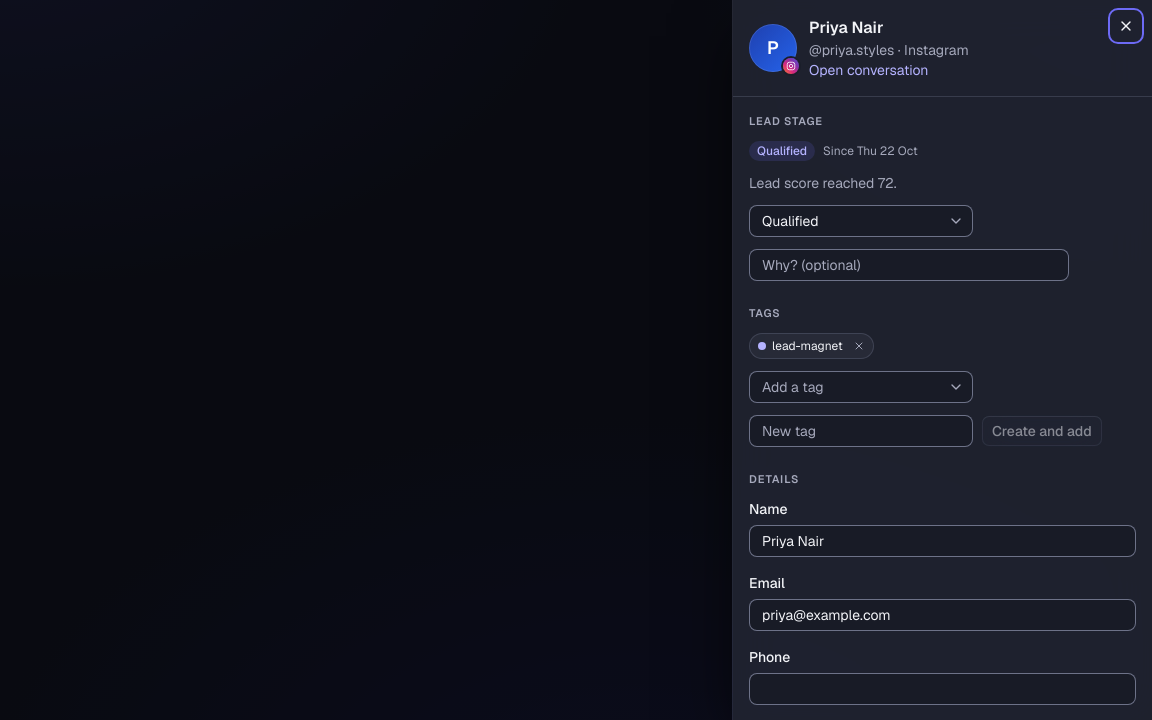
Test: ContactDrawer (GR-17) › puts the API's message beside the value it refuses
Replace the text in the field labelled "Email" with "nope" at (942, 615), box [749,599,1136,631]
(page scrolled)
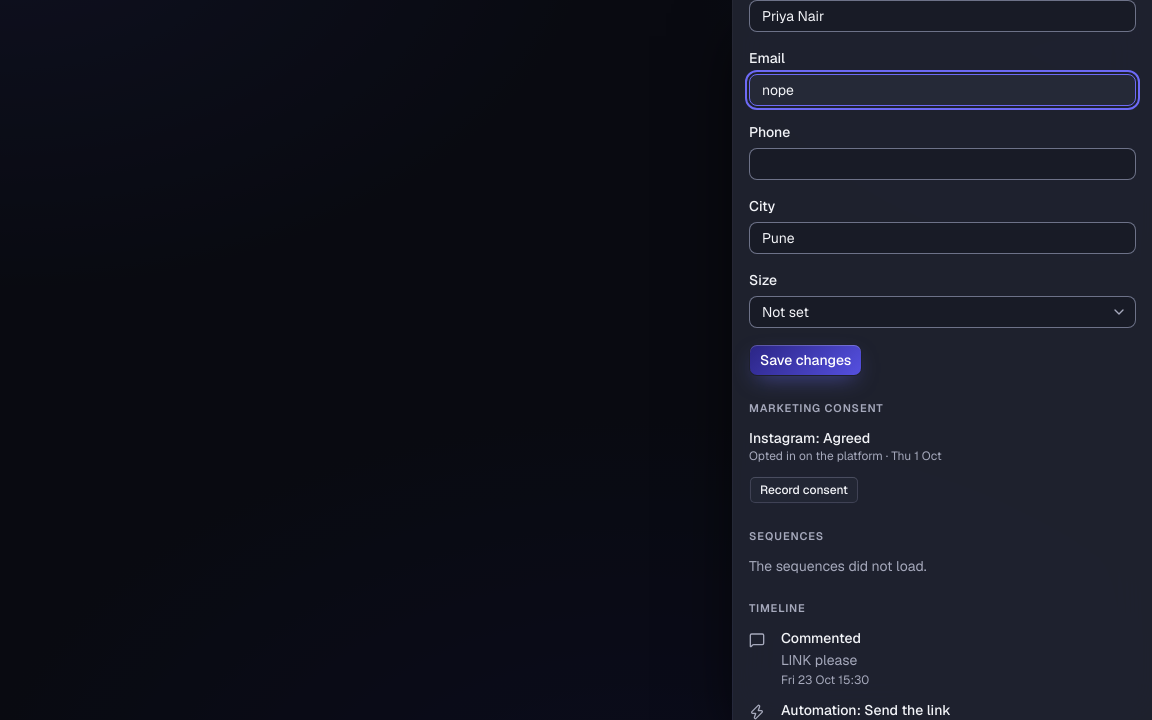
Click the button "Save changes" at (806, 360), box [749,344,862,376]
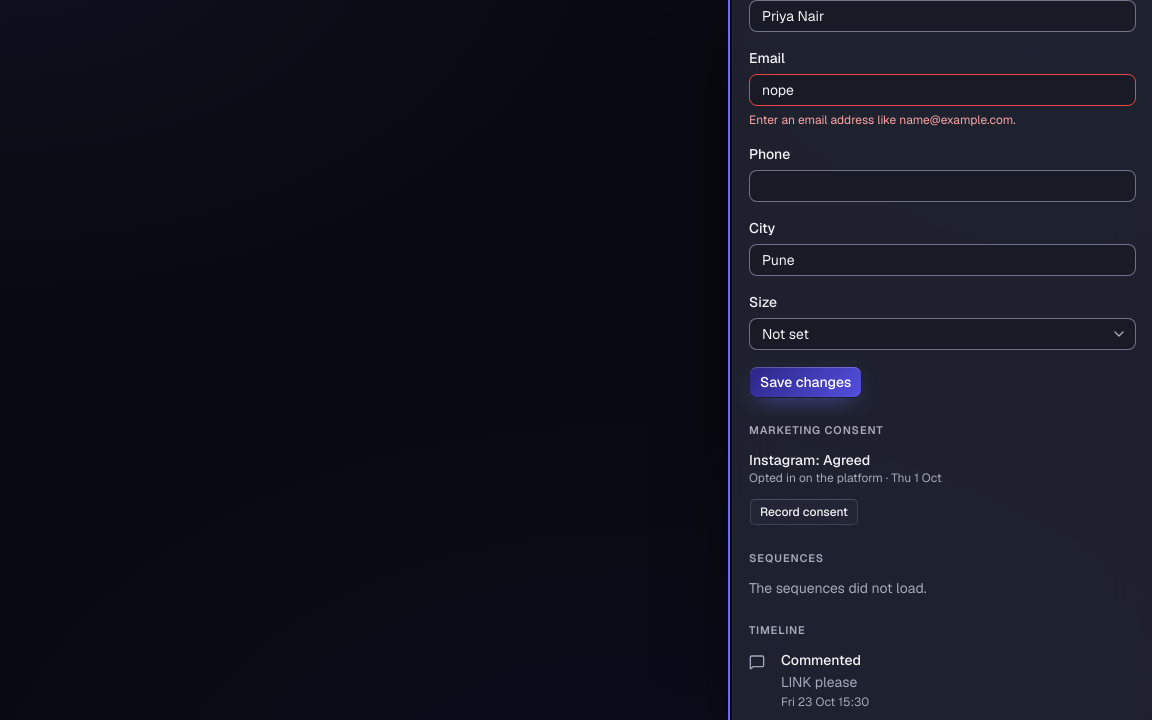
Now the text "Enter an email address like name@example.com." is shown, box [749,112,1016,128]
